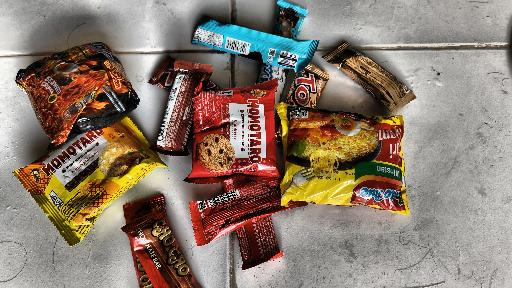chocho: (181, 176, 306, 269), (117, 220, 200, 288)
dilan: (189, 15, 317, 74)
indomie: (277, 103, 416, 219)
mie sedap: (9, 37, 144, 146)
momotaro: (7, 121, 164, 237)
top: (319, 32, 418, 117), (152, 61, 203, 157), (295, 63, 327, 109)
